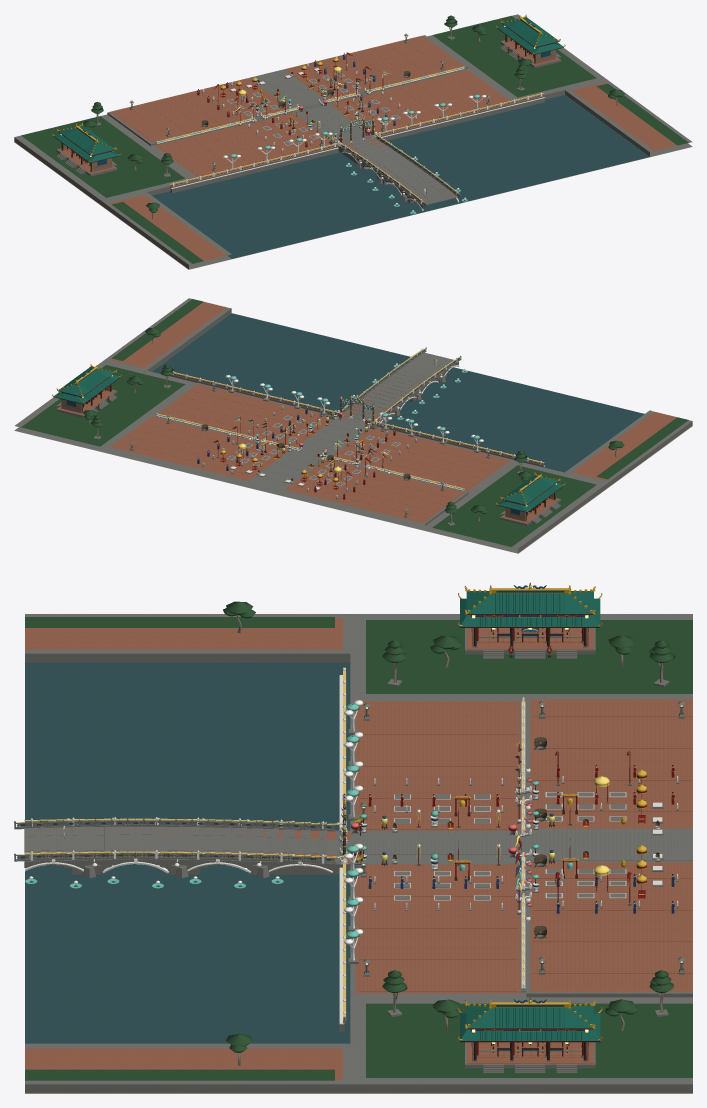
Rendered from T03_ho_thai_dich_cau_trung_dao.glb.
3 renders of one model, top to bottom at view 1: azimuth 30°, elevation 25°; view 2: azimuth 150°, elevation 25°; view 3: azimuth 270°, elevation 25°, orthographic. The views are drawn at different scales.
Visible parts, largest first — view 1: T03_ho_thai_dich_cau_trung_dao_RootStatic, V11_CauTrungDao_5Vom_KeHo_SanDaiTrieu_Core, NghiMon_Tay_NguyetAnhMon_Body, NghiMon_Dong_NhatTinhMon_Body, T03_V2_Satellite_Seamless_Base; view 2: T03_ho_thai_dich_cau_trung_dao_RootStatic, V11_CauTrungDao_5Vom_KeHo_SanDaiTrieu_Core, NghiMon_Tay_NguyetAnhMon_Body, NghiMon_Dong_NhatTinhMon_Body, T03_V2_Satellite_Seamless_Base; view 3: T03_ho_thai_dich_cau_trung_dao_RootStatic, V11_CauTrungDao_5Vom_KeHo_SanDaiTrieu_Core, NghiMon_Dong_NhatTinhMon_Body, NghiMon_Tay_NguyetAnhMon_Body.
Part boxes in pixels (x1,y1,x2,y2): T03_ho_thai_dich_cau_trung_dao_RootStatic: [14, 14, 692, 269]; V11_CauTrungDao_5Vom_KeHo_SanDaiTrieu_Core: [112, 36, 544, 214]; NghiMon_Tay_NguyetAnhMon_Body: [53, 123, 120, 176]; NghiMon_Dong_NhatTinhMon_Body: [497, 15, 563, 68]; T03_V2_Satellite_Seamless_Base: [14, 142, 692, 269]; T03_ho_thai_dich_cau_trung_dao_RootStatic: [15, 298, 692, 553]; V11_CauTrungDao_5Vom_KeHo_SanDaiTrieu_Core: [112, 348, 544, 522]; NghiMon_Tay_NguyetAnhMon_Body: [497, 473, 563, 525]; NghiMon_Dong_NhatTinhMon_Body: [53, 364, 120, 417]; T03_V2_Satellite_Seamless_Base: [14, 426, 692, 553]; T03_ho_thai_dich_cau_trung_dao_RootStatic: [24, 614, 692, 1093]; V11_CauTrungDao_5Vom_KeHo_SanDaiTrieu_Core: [24, 667, 692, 1031]; NghiMon_Dong_NhatTinhMon_Body: [460, 999, 600, 1073]; NghiMon_Tay_NguyetAnhMon_Body: [460, 585, 600, 658].
Size of the model in its own units: 140 by 9.59 by 85.2.
26 materials, 7 textured.
